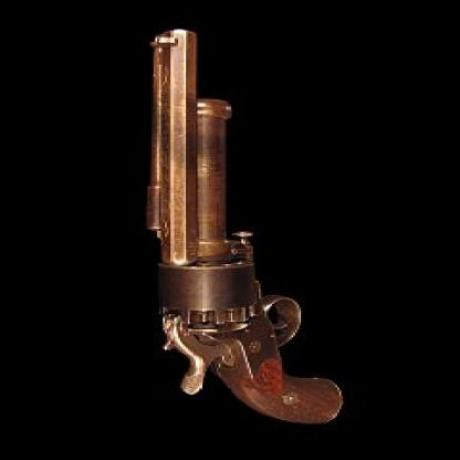weapon: (144, 25, 342, 427)
